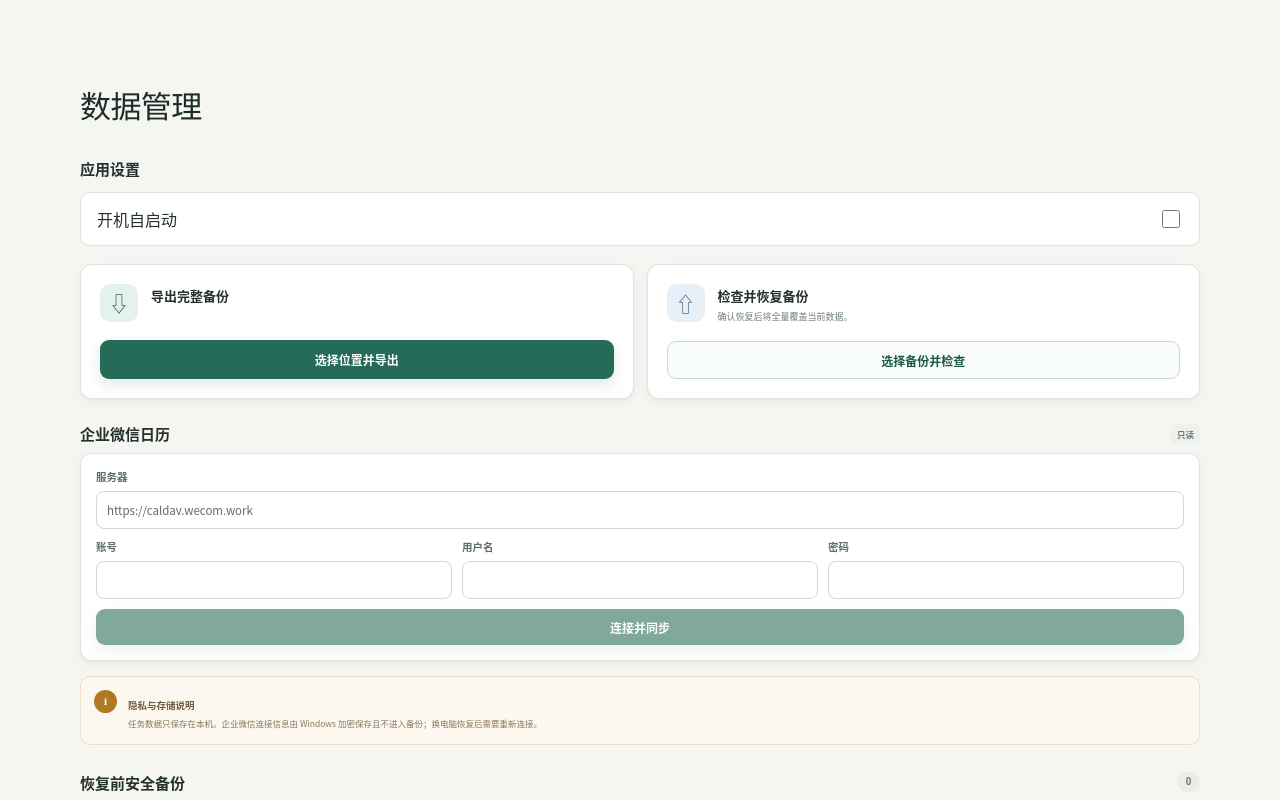
DataPage › 连接后立即只读同步指定缓存范围
The width and height of the screenshot is (1280, 800).
Type "zhangsan" into the field labelled "账号". click: (274, 580)
box: left=96, top=561, right=452, bottom=599
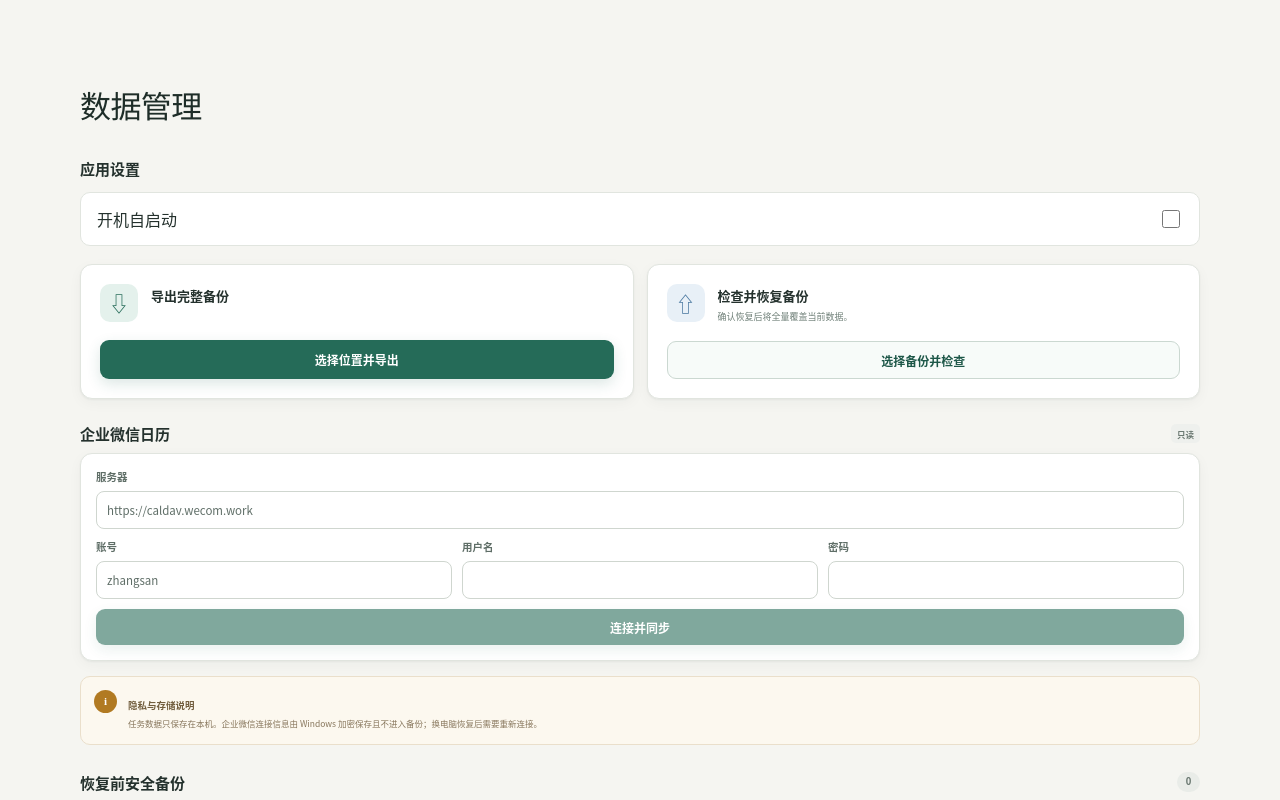
Type "secret" into the password field labelled "密码". click: (1006, 580)
box: left=828, top=561, right=1184, bottom=599
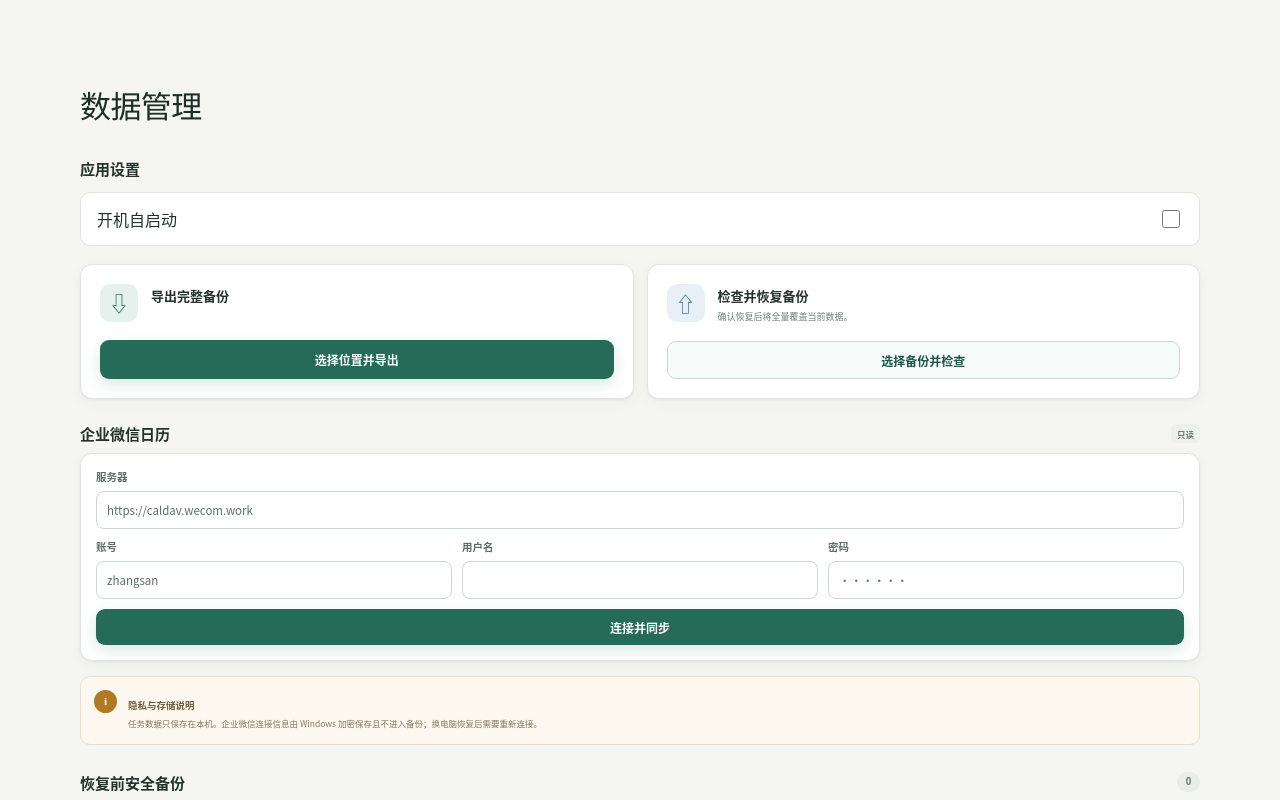
Click the button "连接并同步". click: (640, 627)
box: left=96, top=609, right=1184, bottom=645
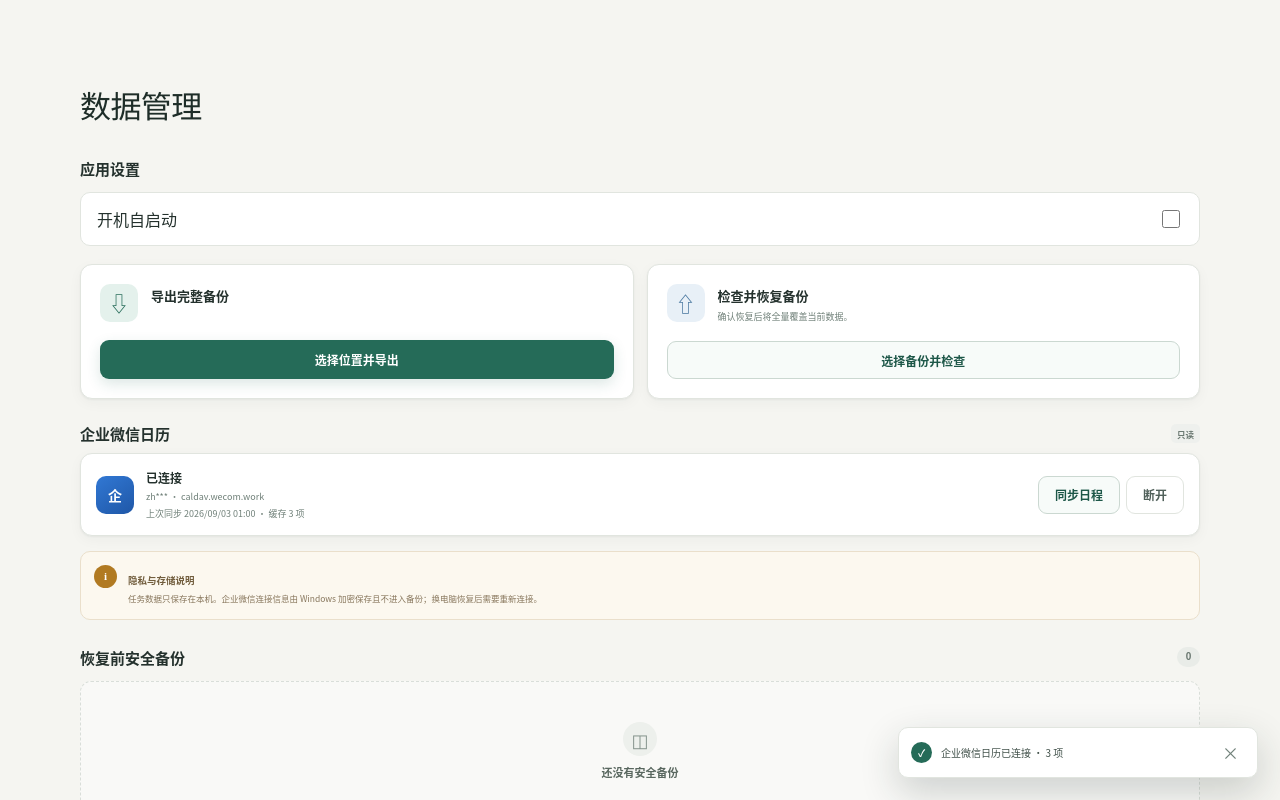
Expected: the text "企业微信日历已连接 · 3 项" is shown, left=941, top=745, right=1063, bottom=760
